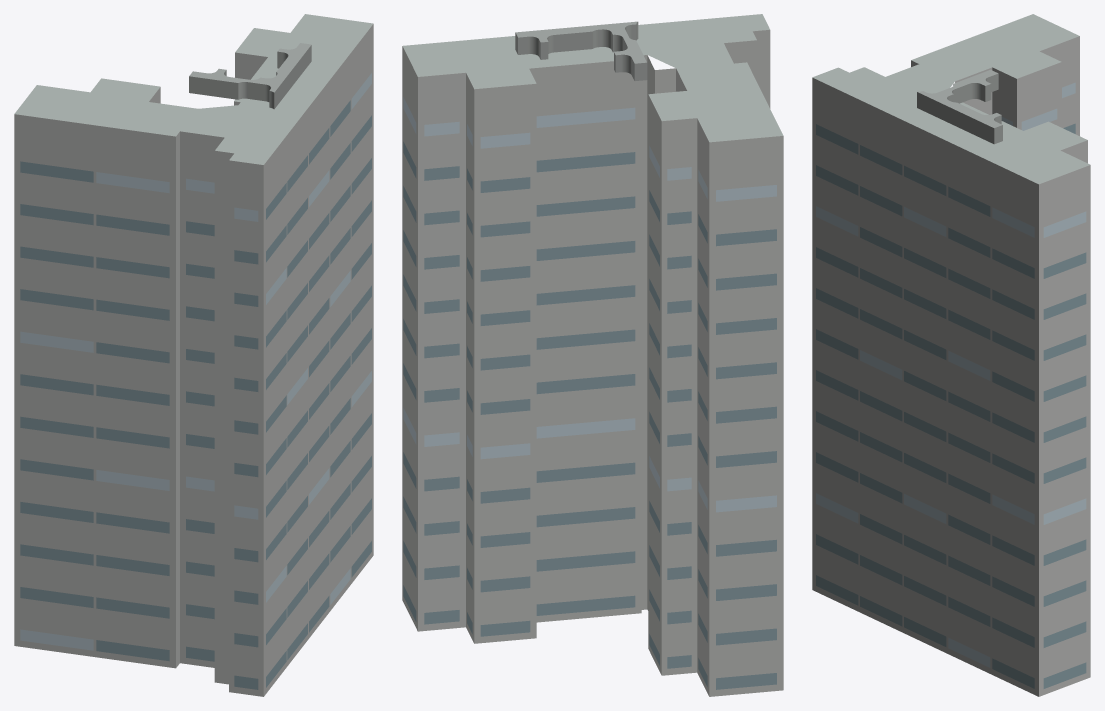
Rendered from fallback-gaepo-xi-presidence-431.glb.
The picture shows the model from 3 angles, left to right: view 1: azimuth 30°, elevation 25°; view 2: azimuth 150°, elevation 25°; view 3: azimuth 270°, elevation 25°; orthographic projection. The views are drawn at different scales.
Visible parts, largest first — view 1: fallback-gaepo-xi-presidence-431; view 2: fallback-gaepo-xi-presidence-431; view 3: fallback-gaepo-xi-presidence-431.
Boxes of the visible parts, x1,y1,x2,y2 form: fallback-gaepo-xi-presidence-431: [14, 14, 373, 696]; fallback-gaepo-xi-presidence-431: [402, 14, 783, 696]; fallback-gaepo-xi-presidence-431: [812, 14, 1090, 696].
Size of the model in its own units: 54.39 by 78.65 by 37.57.
